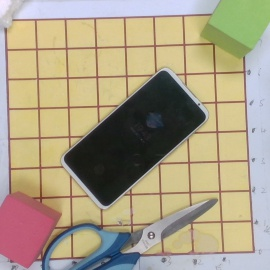phone: (60, 65, 209, 211)
